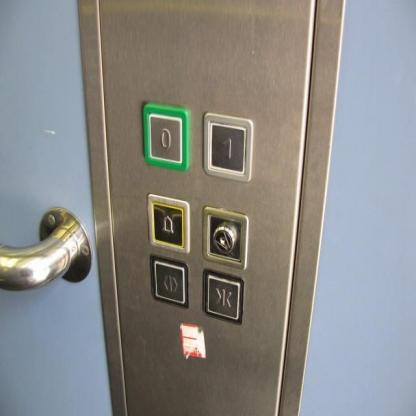0: (141, 102, 188, 171)
1: (202, 111, 252, 181)
alarm: (146, 191, 189, 254)
bt_keyhole: (202, 204, 248, 270)
close: (203, 267, 244, 325)
open: (149, 252, 190, 310)
